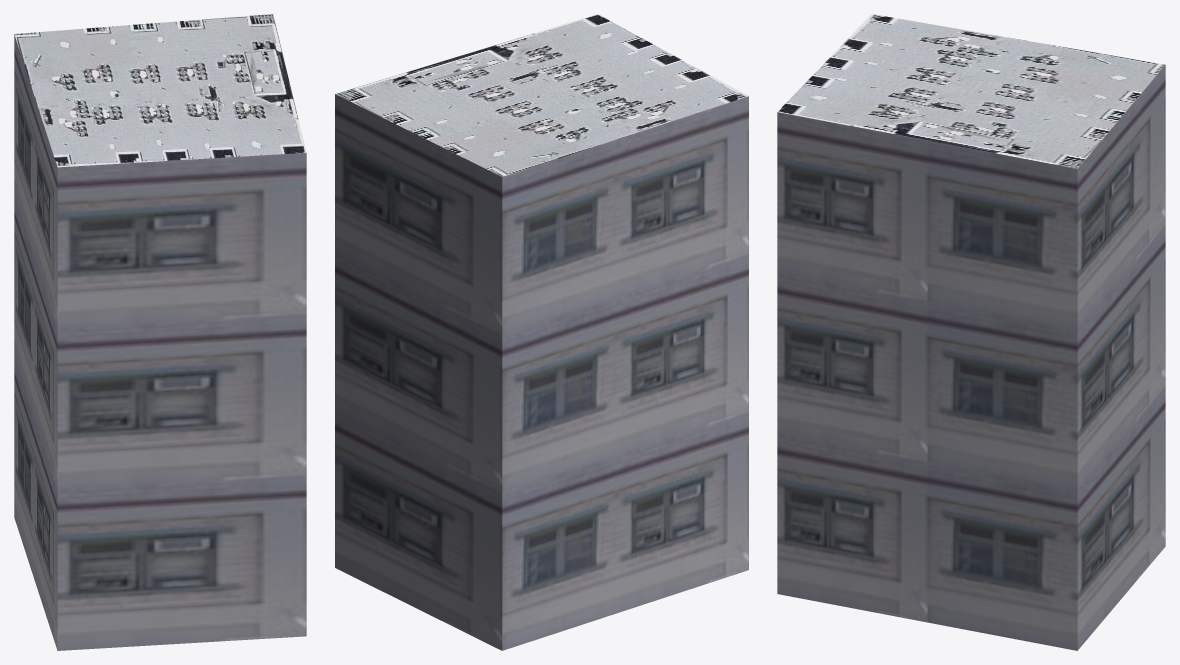
The model's file is ResTex__886.fbx.
The picture shows the model from 3 angles, left to right: view 1: azimuth 30°, elevation 25°; view 2: azimuth 150°, elevation 25°; view 3: azimuth 270°, elevation 25°; orthographic projection. The views are drawn at different scales.
Visible parts, largest first — view 1: CityEngineMaterial_1_m, CityEngineMaterial_4_m; view 2: CityEngineMaterial_1_m, CityEngineMaterial_4_m; view 3: CityEngineMaterial_1_m, CityEngineMaterial_4_m.
Boxes of the visible parts, x1,y1,x2,y2 form: CityEngineMaterial_1_m: (14,35,306,650); CityEngineMaterial_4_m: (14,14,306,167); CityEngineMaterial_1_m: (335,94,748,650); CityEngineMaterial_4_m: (335,14,748,176); CityEngineMaterial_1_m: (777,65,1165,650); CityEngineMaterial_4_m: (778,14,1164,168).
Size of the model in its own units: 6.21 by 9 by 6.57.
2 materials, 2 textured.
